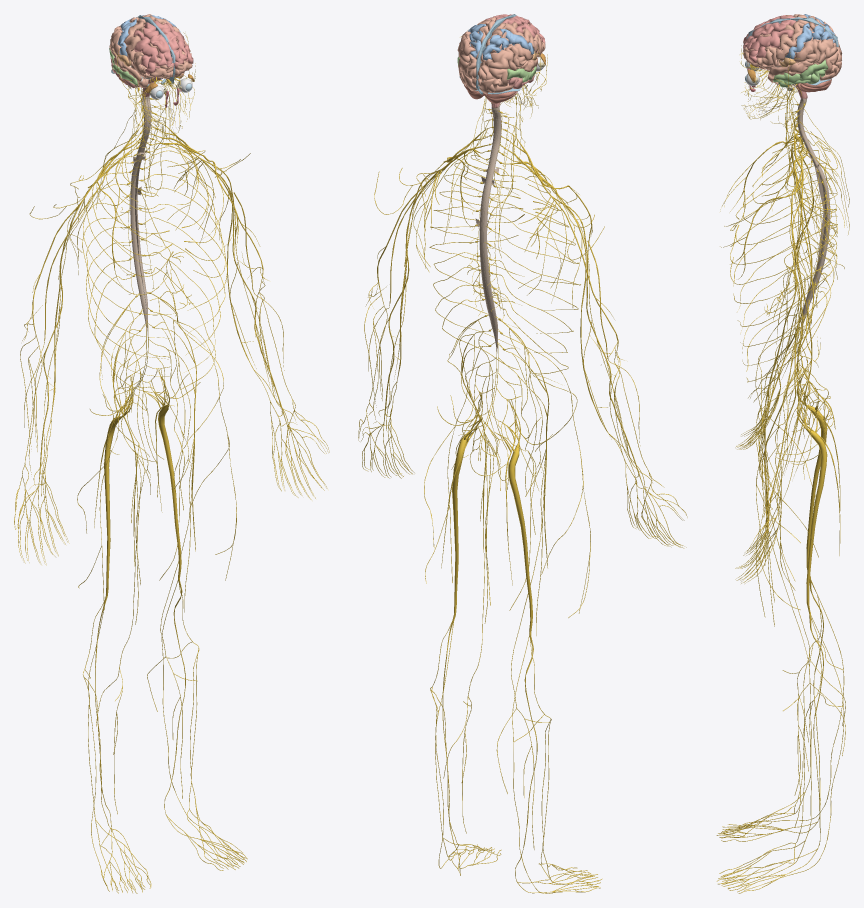
The model's file is nervous.glb.
3 renders of one model, left to right at view 1: azimuth 30°, elevation 25°; view 2: azimuth 150°, elevation 25°; view 3: azimuth 270°, elevation 25°, orthographic. The views are drawn at different scales.
Visible parts, largest first — view 1: Intercostal nerves.r.001, Spinal dura.001, Intercostal nerves.l.001, Sciatic nerve.r.001, Sciatic nerve.l.001; view 2: Spinal dura.001, Intercostal nerves.l.001, Intercostal nerves.r.001, Sciatic nerve.r.001, Sciatic nerve.l.001; view 3: Spinal dura.001, Intercostal nerves.l.001, Intercostal nerves.r.001, Sciatic nerve.l.001, Sciatic nerve.r.001, Middle frontal gyrus.l.001, Saphenous nerve.l.001, Median nerve.l.001, Lateral femoral cutaneous nerve.l.001, Middle temporal gyrus.l.001, Saphenous nerve.r.001, Precentral gyrus.l.001 (+17 smaller).
Part boxes in pixels (x1,y1,x2,y2): Intercostal nerves.r.001: (82, 148, 173, 392); Spinal dura.001: (130, 95, 151, 335); Intercostal nerves.l.001: (141, 143, 227, 389); Sciatic nerve.r.001: (104, 376, 132, 595); Sciatic nerve.l.001: (148, 369, 181, 577); Spinal dura.001: (475, 103, 501, 352); Intercostal nerves.l.001: (429, 155, 524, 369); Intercostal nerves.r.001: (491, 163, 580, 374); Sciatic nerve.r.001: (495, 399, 532, 632); Sciatic nerve.l.001: (452, 392, 481, 613); Spinal dura.001: (797, 95, 830, 331); Intercostal nerves.l.001: (730, 153, 837, 382); Intercostal nerves.r.001: (730, 140, 837, 371); Sciatic nerve.l.001: (796, 384, 827, 612); Sciatic nerve.r.001: (796, 370, 827, 576); Middle frontal gyrus.l.001: (745, 29, 793, 62); Saphenous nerve.l.001: (761, 453, 845, 827); Median nerve.l.001: (769, 198, 802, 508); Lateral femoral cutaneous nerve.l.001: (755, 340, 818, 617); Middle temporal gyrus.l.001: (773, 60, 828, 83); Saphenous nerve.r.001: (762, 423, 845, 795); Precentral gyrus.l.001: (776, 21, 803, 62).
Size of the model in its own units: 0.6672 by 1.7 by 0.2424.
